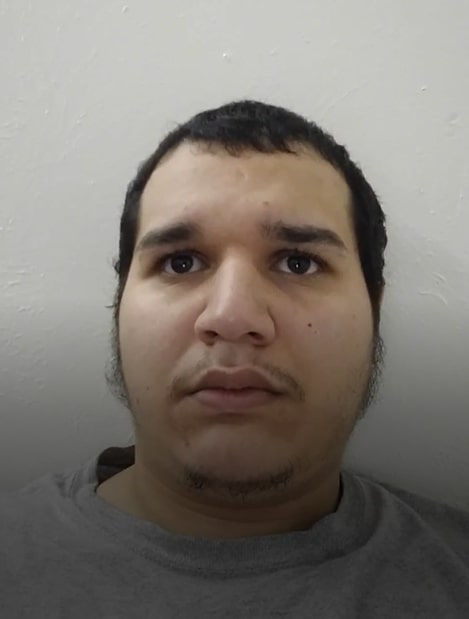Not Sleeping: (135, 218, 343, 294)
